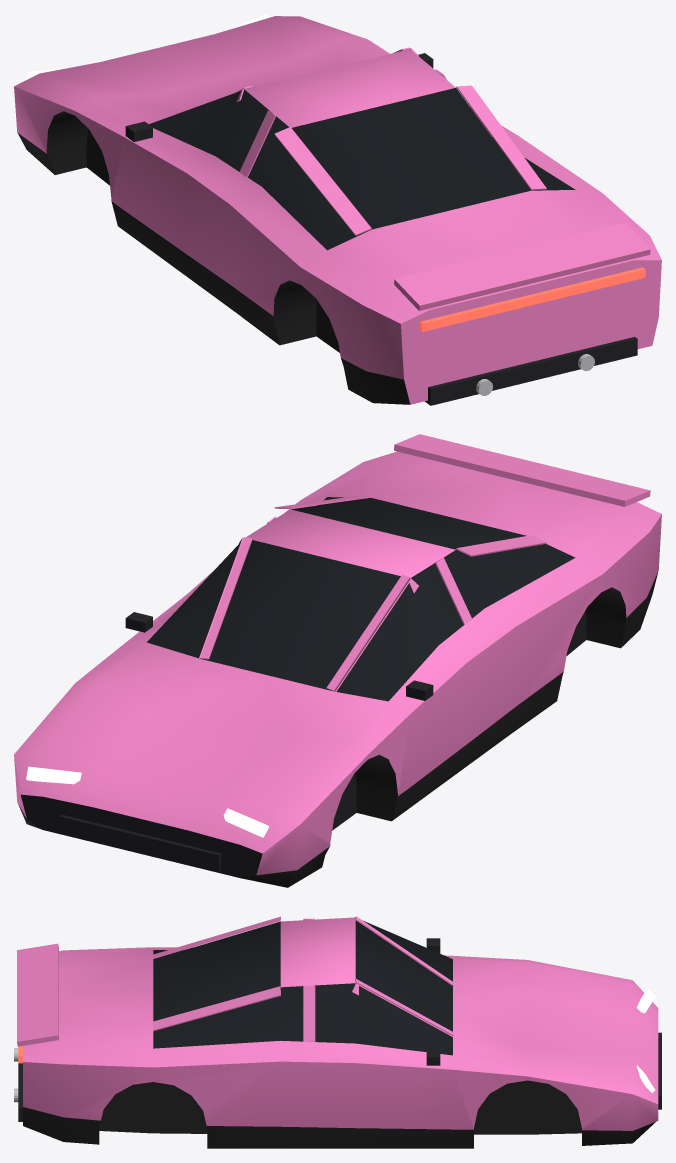
File: car_sport.glb
3 views of the same model, one above another, from view 1: azimuth 30°, elevation 25°; view 2: azimuth 150°, elevation 25°; view 3: azimuth 270°, elevation 25° (orthographic). The views are drawn at different scales.
Parts seen in each view (by area): view 1: cometBody; view 2: cometBody; view 3: cometBody.
Boxes of the visible parts, x1,y1,x2,y2 form: cometBody: [14, 14, 661, 405]; cometBody: [14, 434, 661, 887]; cometBody: [14, 916, 661, 1148].
Size of the model in its own units: 1.9 by 1.07 by 4.33.
